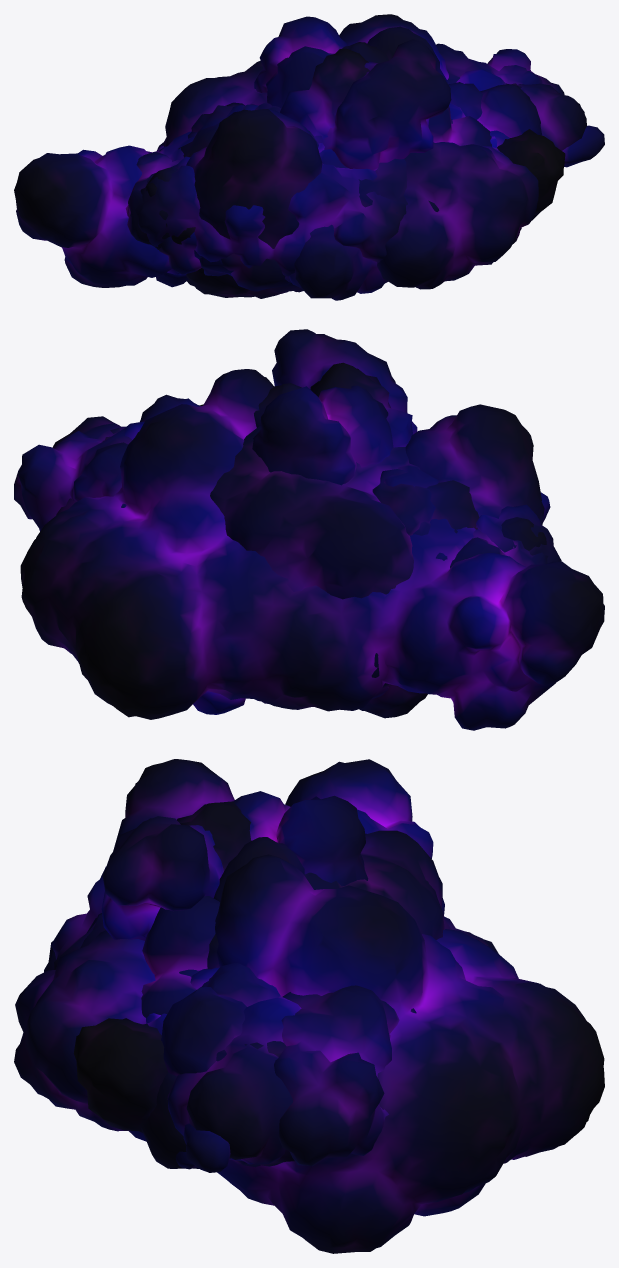
Rendered from SM_StylizedClouds.fbx.
3 views of the same model, one above another, from view 1: azimuth 30°, elevation 25°; view 2: azimuth 150°, elevation 25°; view 3: azimuth 270°, elevation 25° (orthographic). The views are drawn at different scales.
Visible parts, largest first — view 1: Cloud_20, Cloud_16, Cloud_19, Cloud_18, Cloud_14, Cloud_17, Cloud_15, Cloud_12; view 2: Cloud_20, Cloud_19, Cloud_16, Cloud_18, Cloud_14, Cloud_17, Cloud_13; view 3: Cloud_20, Cloud_16, Cloud_19, Cloud_18, Cloud_14, Cloud_15, Cloud_17, Cloud_12.
Boxes of the visible parts, bbox=[...] form: Cloud_20: bbox=[14, 14, 586, 291]; Cloud_16: bbox=[130, 43, 565, 287]; Cloud_19: bbox=[162, 39, 536, 298]; Cloud_18: bbox=[199, 16, 439, 300]; Cloud_14: bbox=[159, 84, 541, 275]; Cloud_17: bbox=[125, 82, 604, 249]; Cloud_15: bbox=[171, 106, 491, 244]; Cloud_12: bbox=[342, 42, 388, 63]; Cloud_20: bbox=[20, 369, 604, 730]; Cloud_19: bbox=[210, 329, 479, 718]; Cloud_16: bbox=[14, 362, 561, 563]; Cloud_18: bbox=[252, 385, 393, 485]; Cloud_14: bbox=[140, 394, 438, 535]; Cloud_17: bbox=[102, 426, 548, 568]; Cloud_13: bbox=[501, 517, 546, 550]; Cloud_20: bbox=[14, 759, 604, 1253]; Cloud_16: bbox=[51, 801, 416, 1166]; Cloud_19: bbox=[101, 816, 451, 1168]; Cloud_18: bbox=[44, 791, 368, 972]; Cloud_14: bbox=[146, 967, 260, 1169]; Cloud_15: bbox=[141, 896, 219, 1017]; Cloud_17: bbox=[183, 963, 294, 1172]; Cloud_12: bbox=[213, 837, 304, 901].
Bounding box in the file's own units: 5000 × 2510 × 3682.
